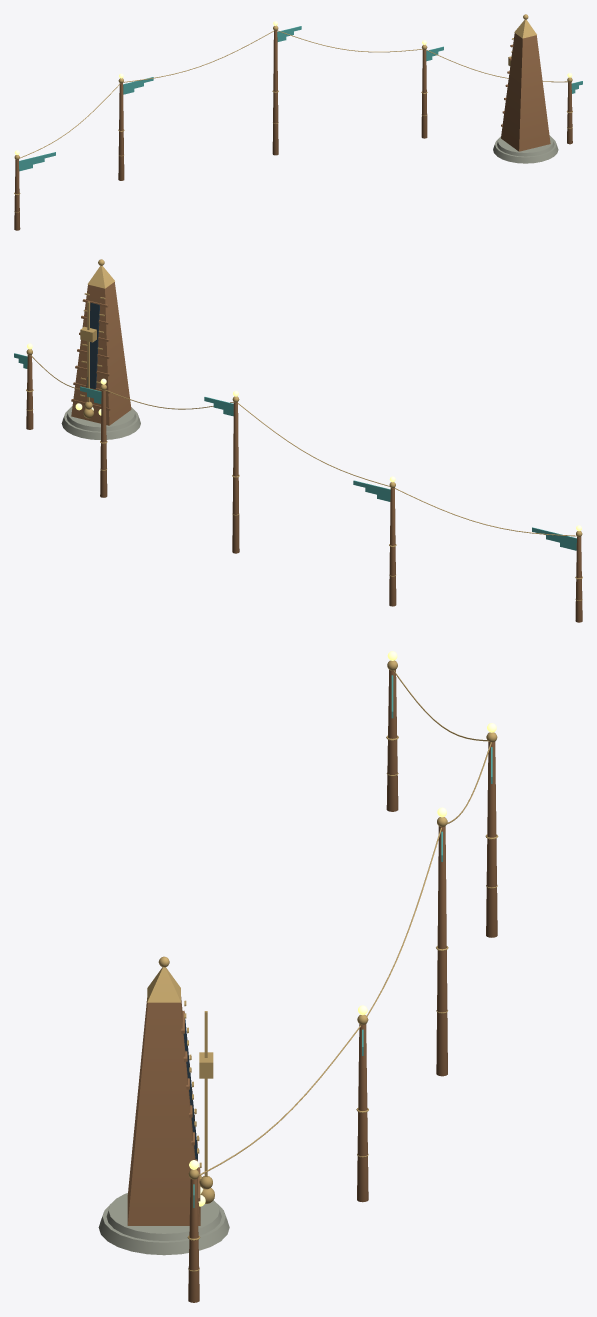
Rendered from landmark-r1-tempo-tower.glb.
3 renders of one model, top to bottom at view 1: azimuth 30°, elevation 25°; view 2: azimuth 150°, elevation 25°; view 3: azimuth 270°, elevation 25°, orthographic. The views are drawn at different scales.
Parts seen in each view (by area): view 1: Static_Honey_cedar, Static_Aged_brass, Static_Limestone_shadow, Static_Sail_turquoise_seam; view 2: Static_Honey_cedar, Static_Aged_brass, Static_Limestone_shadow, Static_Sail_turquoise_seam, Static_Deep_indigo_recess, Beat_pendulum; view 3: Static_Honey_cedar, Static_Limestone_shadow, Static_Aged_brass, Beat_pendulum.
Boxes of the visible parts, x1,y1,x2,y2 form: Static_Honey_cedar: [14, 30, 572, 230]; Static_Aged_brass: [14, 14, 572, 212]; Static_Limestone_shadow: [493, 135, 558, 163]; Static_Sail_turquoise_seam: [19, 26, 582, 171]; Static_Honey_cedar: [26, 282, 582, 622]; Static_Aged_brass: [26, 259, 582, 600]; Static_Limestone_shadow: [61, 406, 140, 440]; Static_Sail_turquoise_seam: [14, 353, 576, 550]; Static_Deep_indigo_recess: [86, 303, 99, 388]; Beat_pendulum: [80, 301, 96, 418]; Static_Honey_cedar: [127, 670, 497, 1302]; Static_Limestone_shadow: [98, 1193, 229, 1255]; Static_Aged_brass: [147, 660, 498, 1271]; Beat_pendulum: [199, 1011, 214, 1203].
Bounding box in the file's own units: 121 × 32.55 × 40.25.
